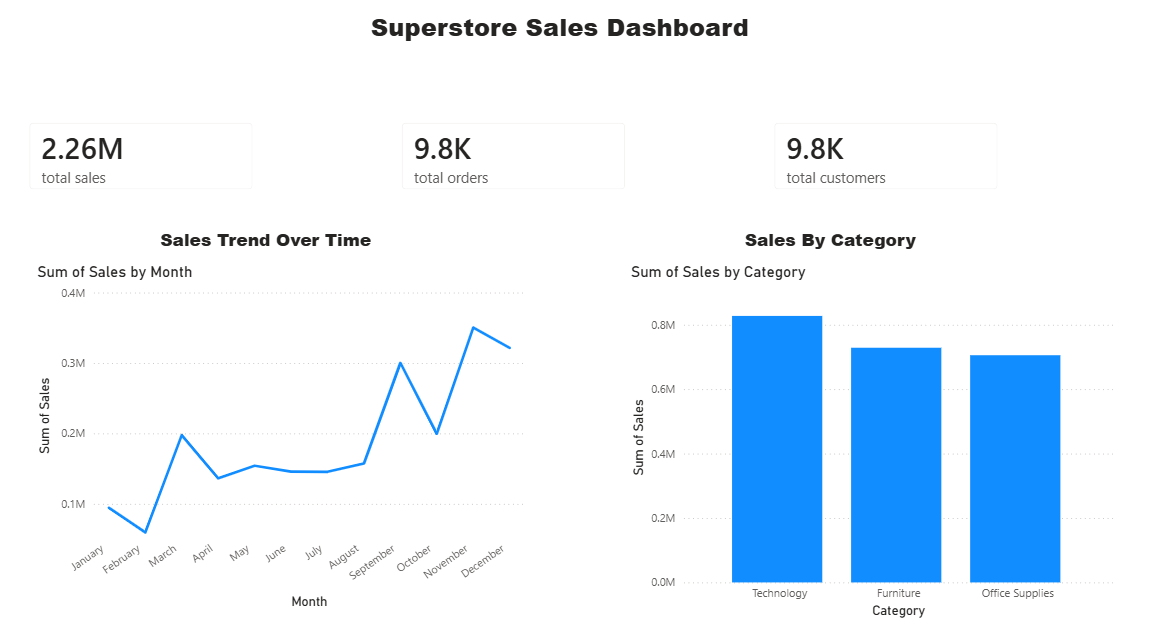

The page's visual inventory and layout, read from the dashboard file:
{"tool":"powerbi","page":{"name":"Page 1","canvas":[1280,720],"ordinal":0},"visuals":[{"type":"cardVisual","fields":{"Data":["Sum(sale.Sales)"]},"box":[22,140,279.9,107],"z":0},{"type":"cardVisual","fields":{"Data":["CountNonNull(sale.Order ID)"]},"box":[430.9,140,279.9,107],"z":1},{"type":"cardVisual","fields":{"Data":["CountNonNull(sale.Customer ID)"]},"box":[839.8,140,279.9,107],"z":2},{"type":"textbox","box":[301.9,27.4,658.7,79.6],"z":3},{"type":"lineChart","fields":{"Category":["sale.Order Date.Variation.Date Hierarchy.Month"],"Y":["Sum(sale.Sales)"]},"box":[42.5,310.1,544.8,385.6],"z":4},{"type":"textbox","box":[22,266.2,437.7,43.9],"z":5},{"type":"clusteredColumnChart","fields":{"Category":["sale.Category"],"Y":["Sum(sale.Sales)"]},"box":[694.3,310.1,539.3,395.2],"z":6},{"type":"textbox","box":[657.3,266.2,511.8,43.9],"z":7}]}

Visuals, with their boxes in screenshot pixels (x1, y1, x2, y2), scaled from the page's 1280x720 canvas onto the 1157x635 screenshot:
cardVisual - Sum(sale.Sales): <box>20,123,273,218</box>
cardVisual - CountNonNull(sale.Order ID): <box>389,123,642,218</box>
cardVisual - CountNonNull(sale.Customer ID): <box>759,123,1012,218</box>
textbox: <box>273,24,868,94</box>
lineChart - sale.Order Date.Variation.Date Hierarchy.Month x Sum(sale.Sales): <box>38,273,531,614</box>
textbox: <box>20,235,416,273</box>
clusteredColumnChart - sale.Category x Sum(sale.Sales): <box>628,273,1115,622</box>
textbox: <box>594,235,1057,273</box>
